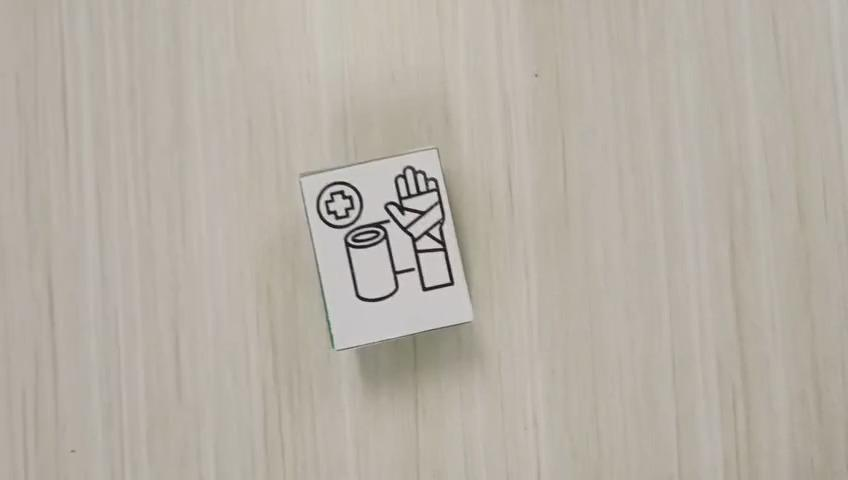Bandages: (298, 146, 477, 352)
